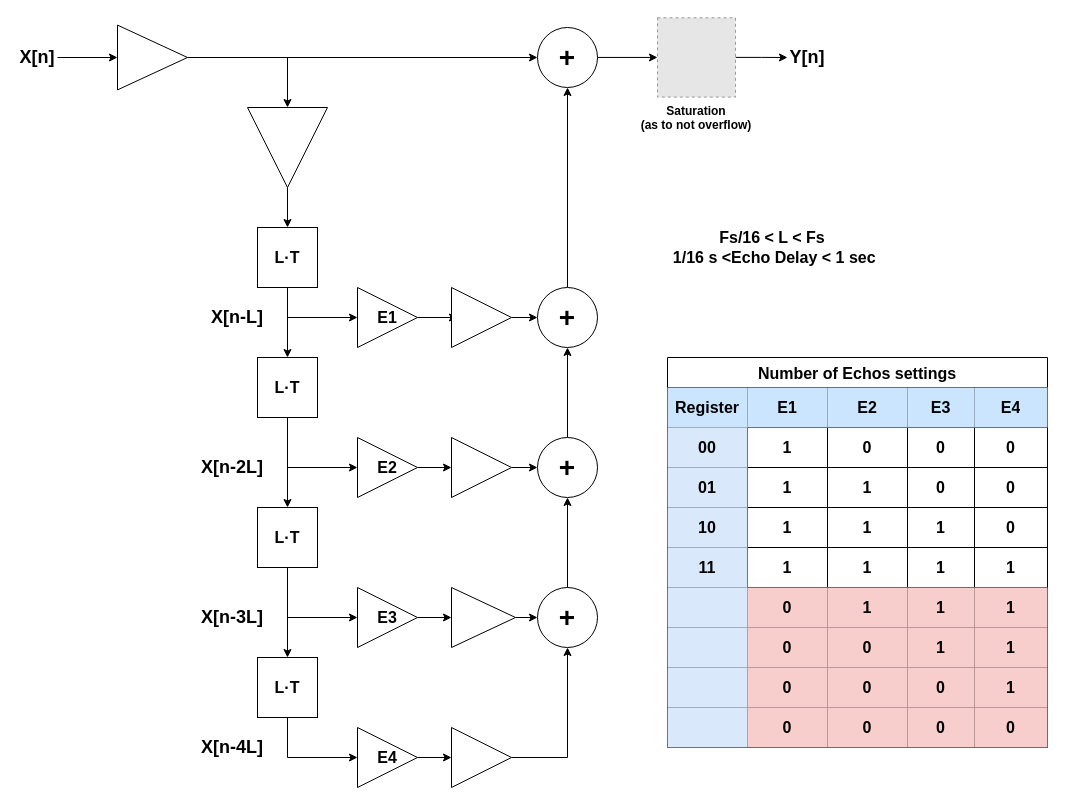
Image size: 1065x805. Some labels were removed from this diagram. Grey dashed boxes stand in for pictures. The shapes that lost their labels are listed below. From the top down, each one's centre as x and y in pixels, then its label:
At point 152,57: "Scaling (as to not overflow)".
At point 287,147: "Echo-vol".
At point 481,317: "C1".
At point 481,467: "C2".
At point 483,617: "C3".
At point 481,757: "C4".
